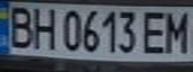0: (57, 7, 81, 53)
1: (100, 8, 121, 54)
3: (115, 7, 142, 55)
6: (78, 7, 103, 53)
B: (3, 2, 36, 50)
E: (139, 8, 172, 55)
H: (27, 4, 60, 51)
M: (160, 8, 193, 54)
